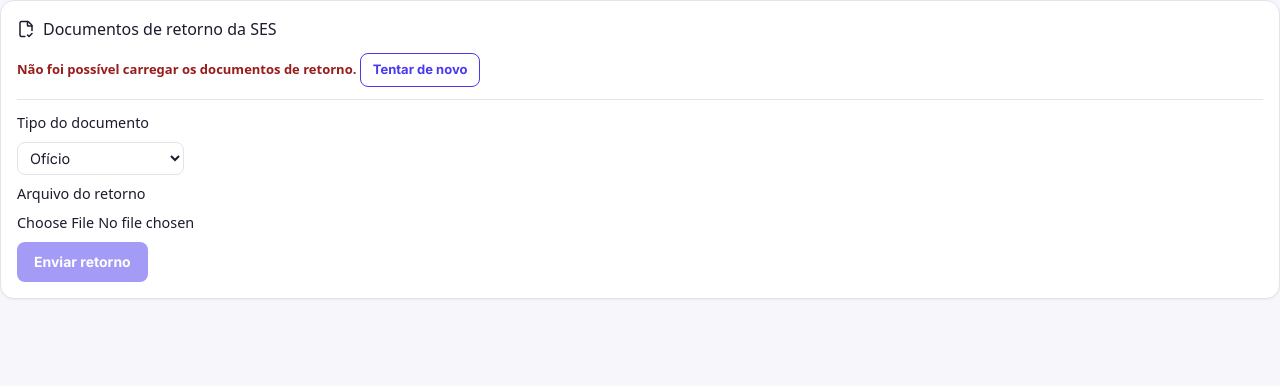
Scenario: RetornoSES › erro ao carregar a lista mostra aviso e permite tentar de novo
Expected: the message shows "Não foi possível carregar", [17,60,356,78]
Click the button "Tentar de novo": (420, 70) [360,53,480,87]
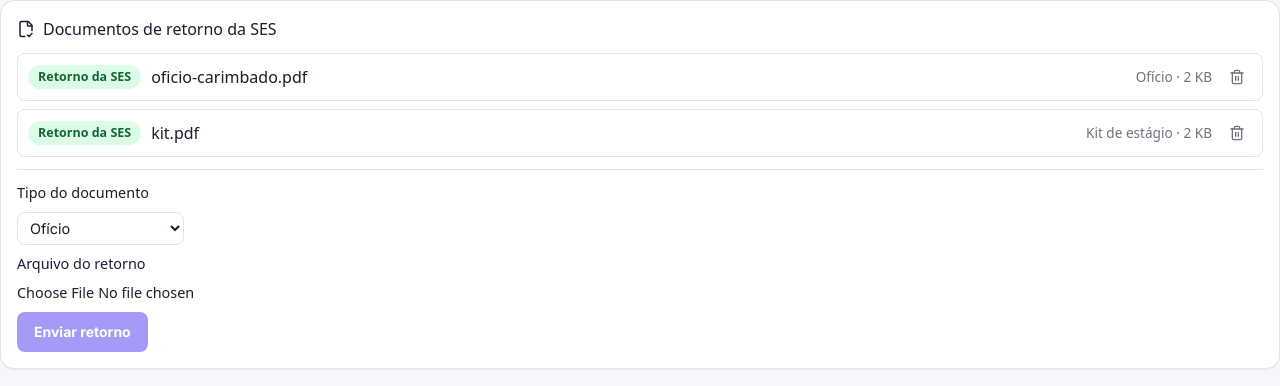
Expected: the text "kit.pdf" is shown, [151,122,199,144]
